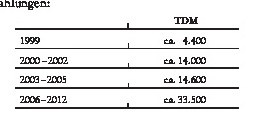table: (0, 0, 260, 128)
